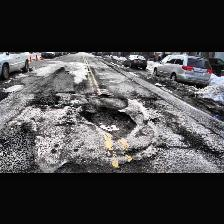pothole: (100, 92, 110, 96)
